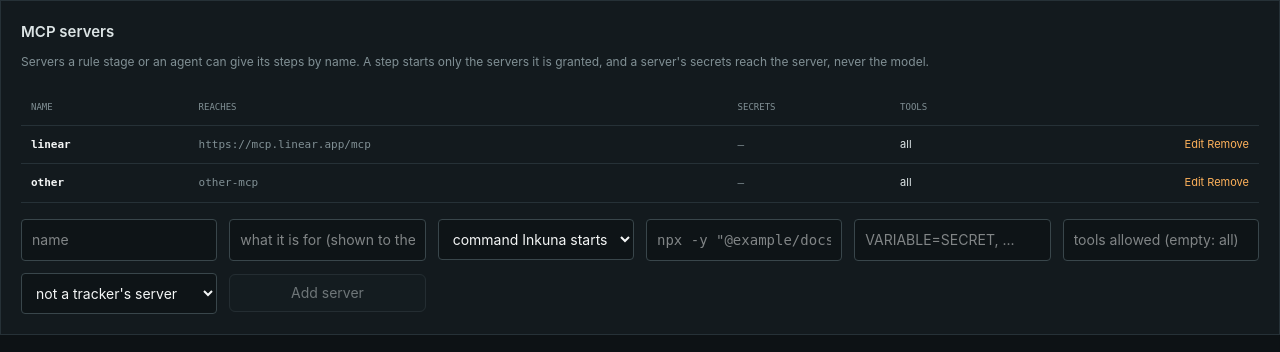
Scenario: MCPServersPanel › edits a URL server in place, and removes one
Later steps or results of the test are not shown.
Click the button with aria-label "Edit MCP server linear". click: click(1194, 144)
box: [1184,136,1204,152]
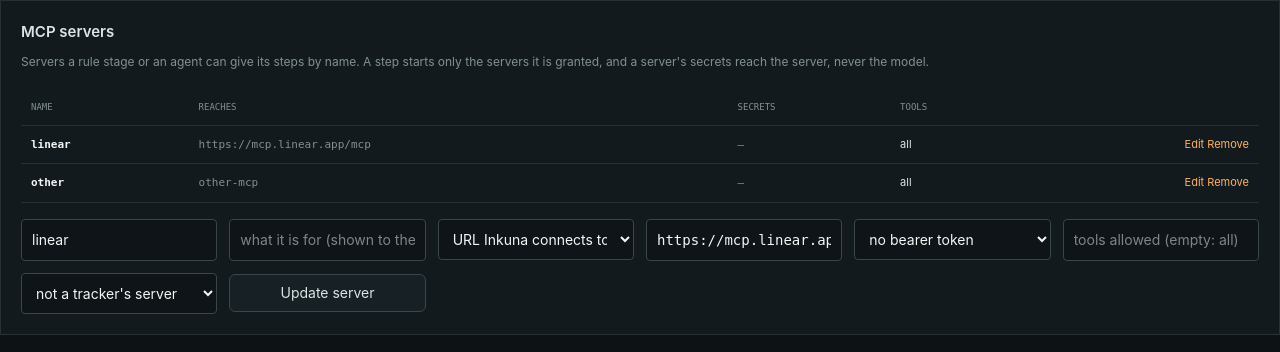
Expected: the field named "MCP server URL" holds "https://mcp.linear.app/mcp", [646,218,842,260]
